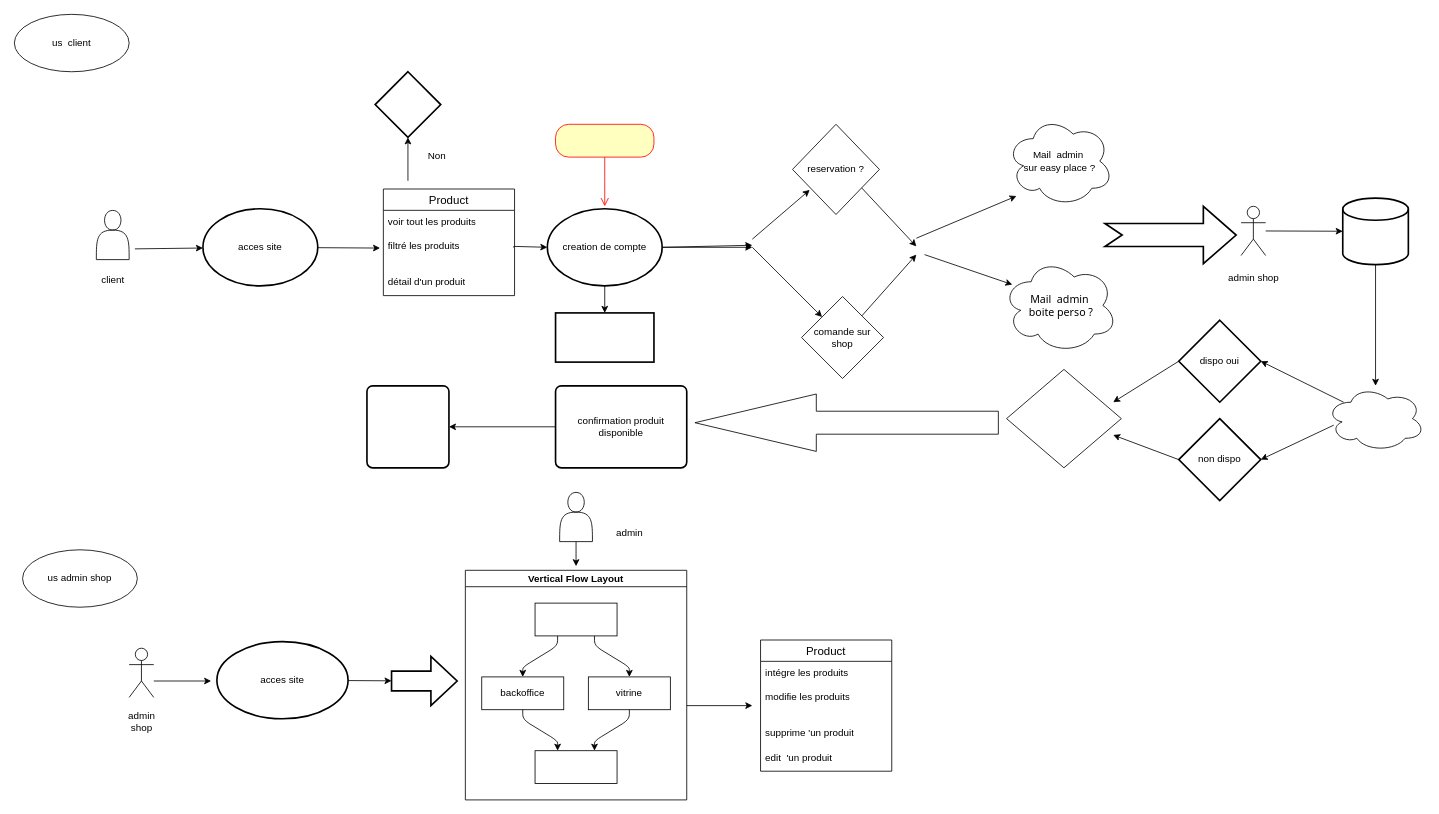
This 1439x814 diagram has some shape labels left out. The shapes that lost their labels are listed below. From the top down, each one's centre as x and y in pixels, then its label:
At [407,104]: "sans compte ?".
At [604,140]: "Activity".
At [1375,231]: "vérification stock data".
At [604,337]: "espace user".
At [407,426]: "Facture à réception".
At [1063,418]: "envoie reponse au client".
At [1375,418]: "validation comande".
At [575,619]: "demande creation shop".
At [575,767]: "formation".
